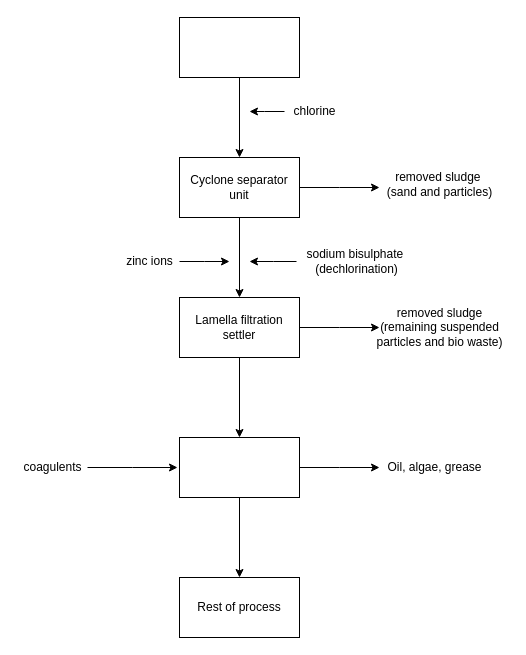
The diagram is 526 pixels wide and 655 high, and some of its shapes have lost their labels. The shapes that lost their labels are listed below. From the top down, each one's centre as x and y in pixels, then its label:
point (239, 47): seawater intake
point (239, 467): Dissolved Air Flotation Clarrifiers
